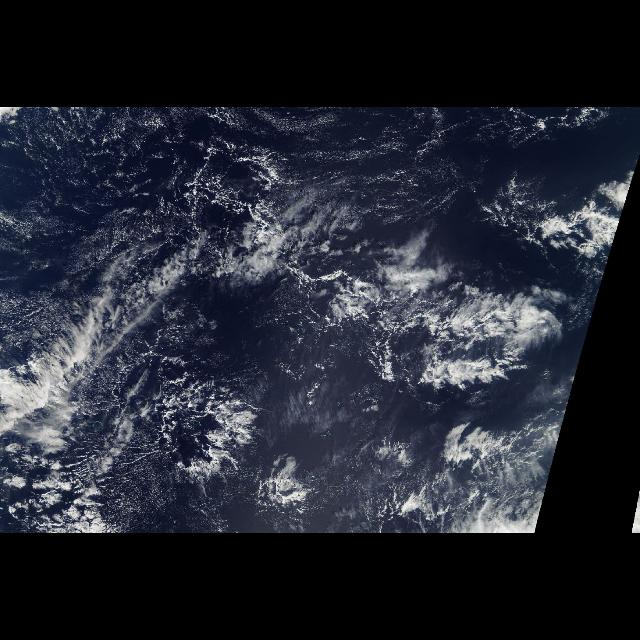Fish: (0, 216, 566, 512)
Gravel: (12, 115, 560, 532)
Sugar: (2, 111, 496, 249), (300, 408, 408, 528)
